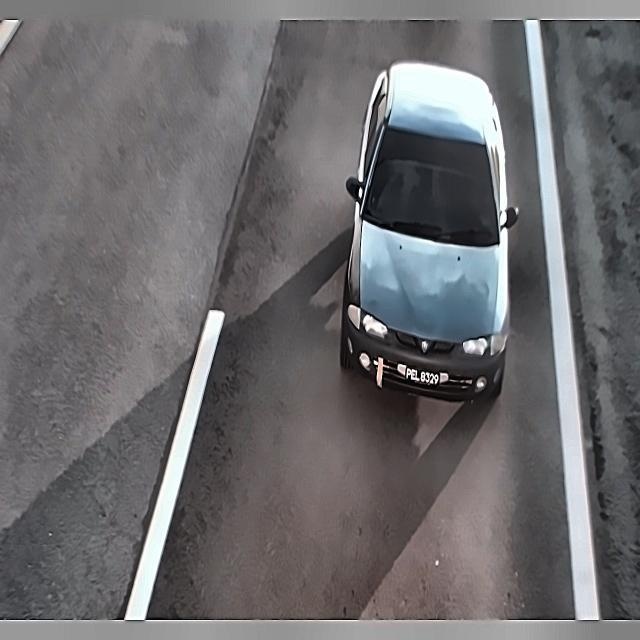car: (402, 359, 448, 395)
